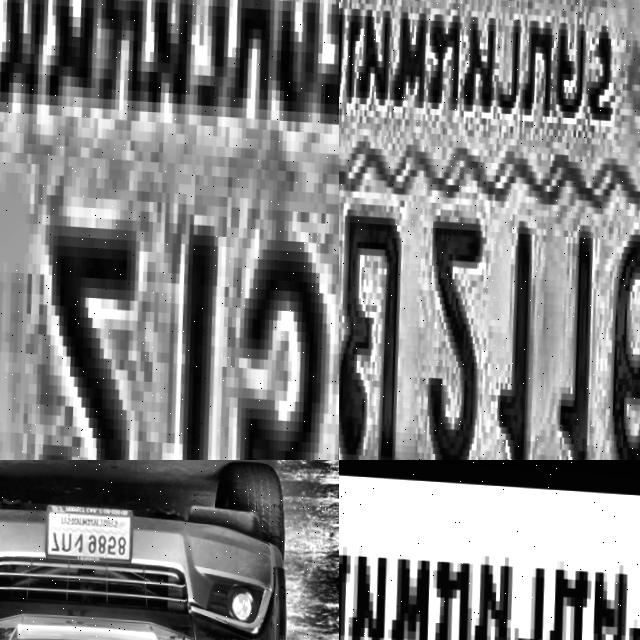license-plate: (0, 0, 339, 460), (339, 0, 640, 460), (339, 460, 640, 640), (42, 498, 134, 568)
